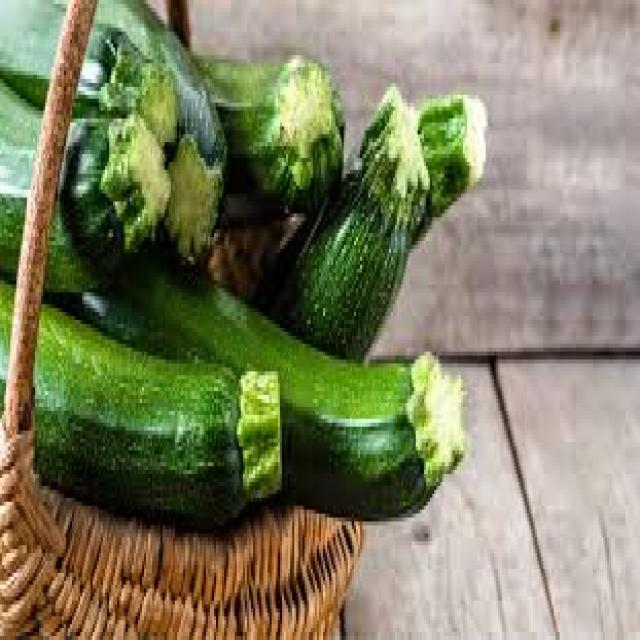Zucchini: (38, 319, 286, 510)
